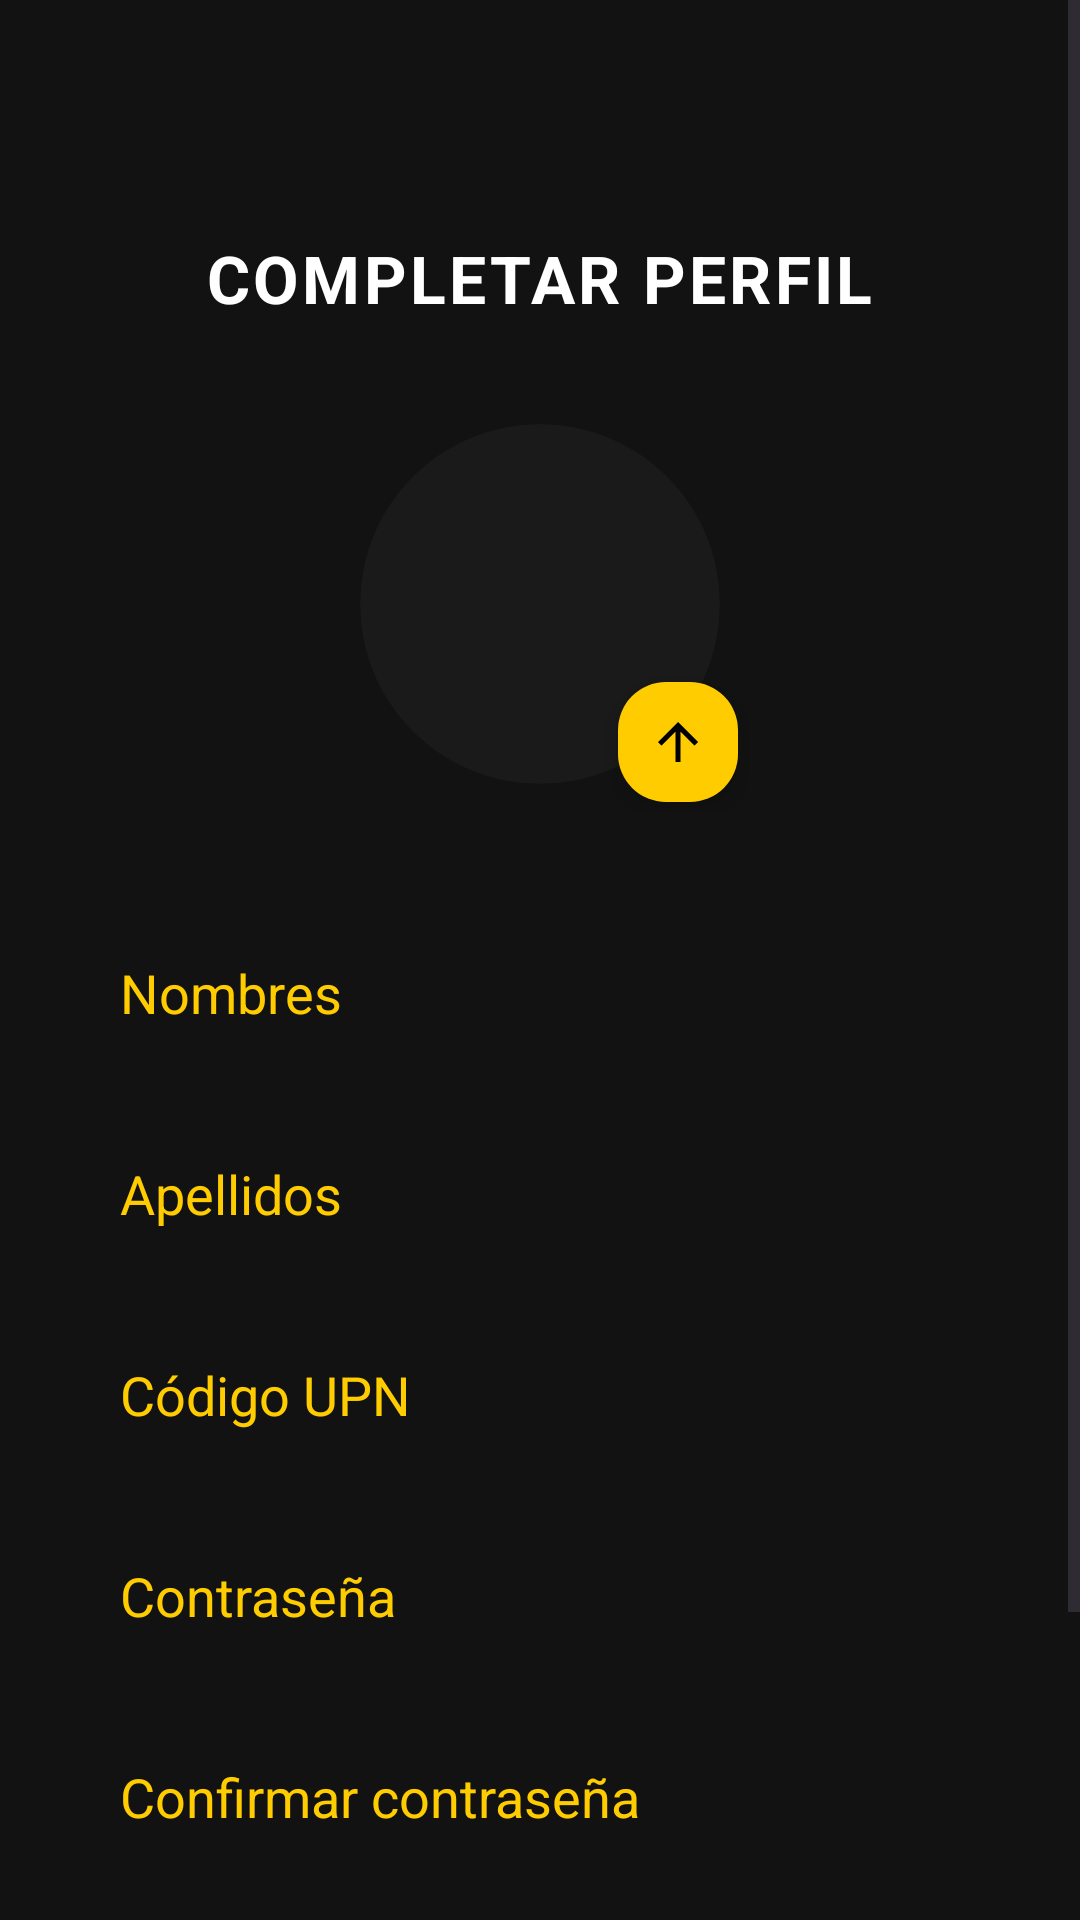

Point at icon controls on the screen. Image size 1080px×1920px, points as (x,y).
flechaarriba: (678,742)
